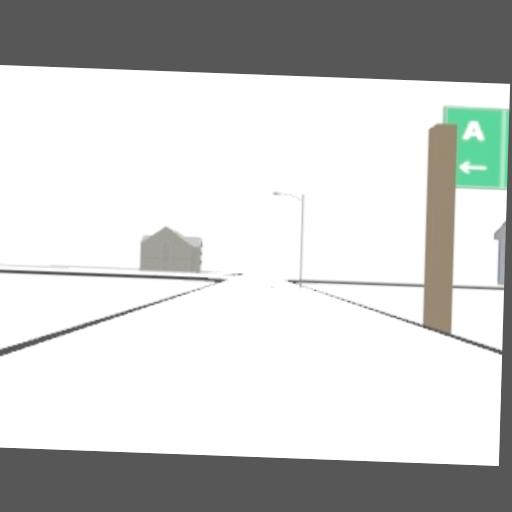A: (460, 118, 486, 142)
Left: (455, 161, 488, 175)
